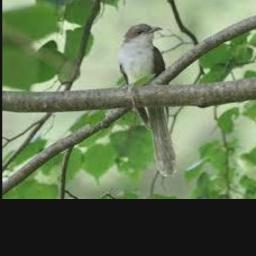Cuckoo: (118, 23, 175, 177)
